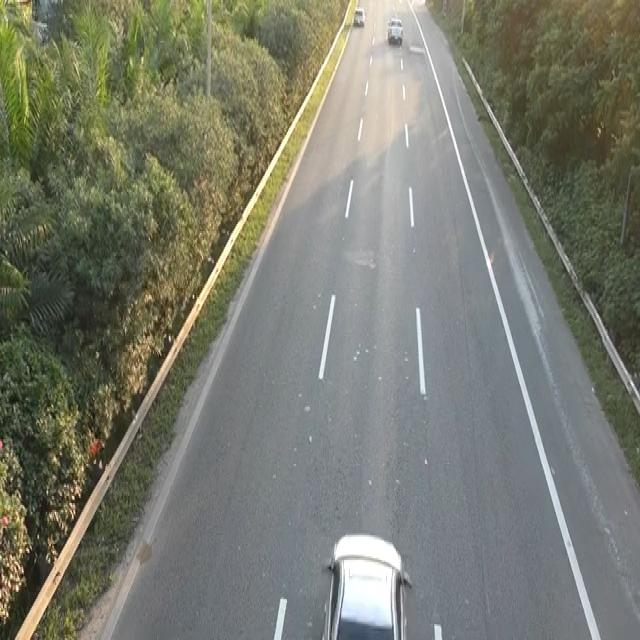bus: (319, 528, 415, 638), (352, 5, 365, 27)
car: (385, 14, 404, 46)
